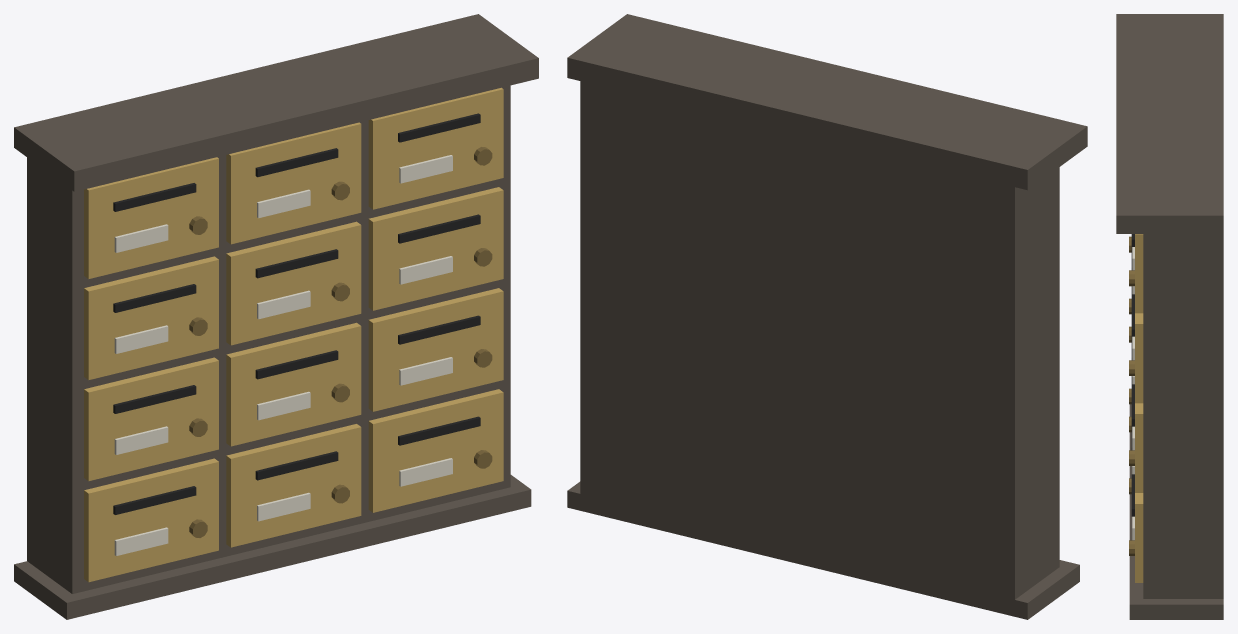
Rendered from mailboxes.glb.
3 views of the same model, side by side, from view 1: azimuth 30°, elevation 25°; view 2: azimuth 150°, elevation 25°; view 3: azimuth 270°, elevation 25° (orthographic). The views are drawn at different scales.
Parts seen in each view (by area): view 1: mailboxes; view 2: mailboxes; view 3: mailboxes.
Part boxes in pixels (box(x1,y1,x2,y2)): mailboxes: box(14, 14, 538, 619); mailboxes: box(567, 14, 1087, 619); mailboxes: box(1116, 14, 1223, 619).
Bounding box in the file's own units: 0.712 × 0.665 × 0.16.
